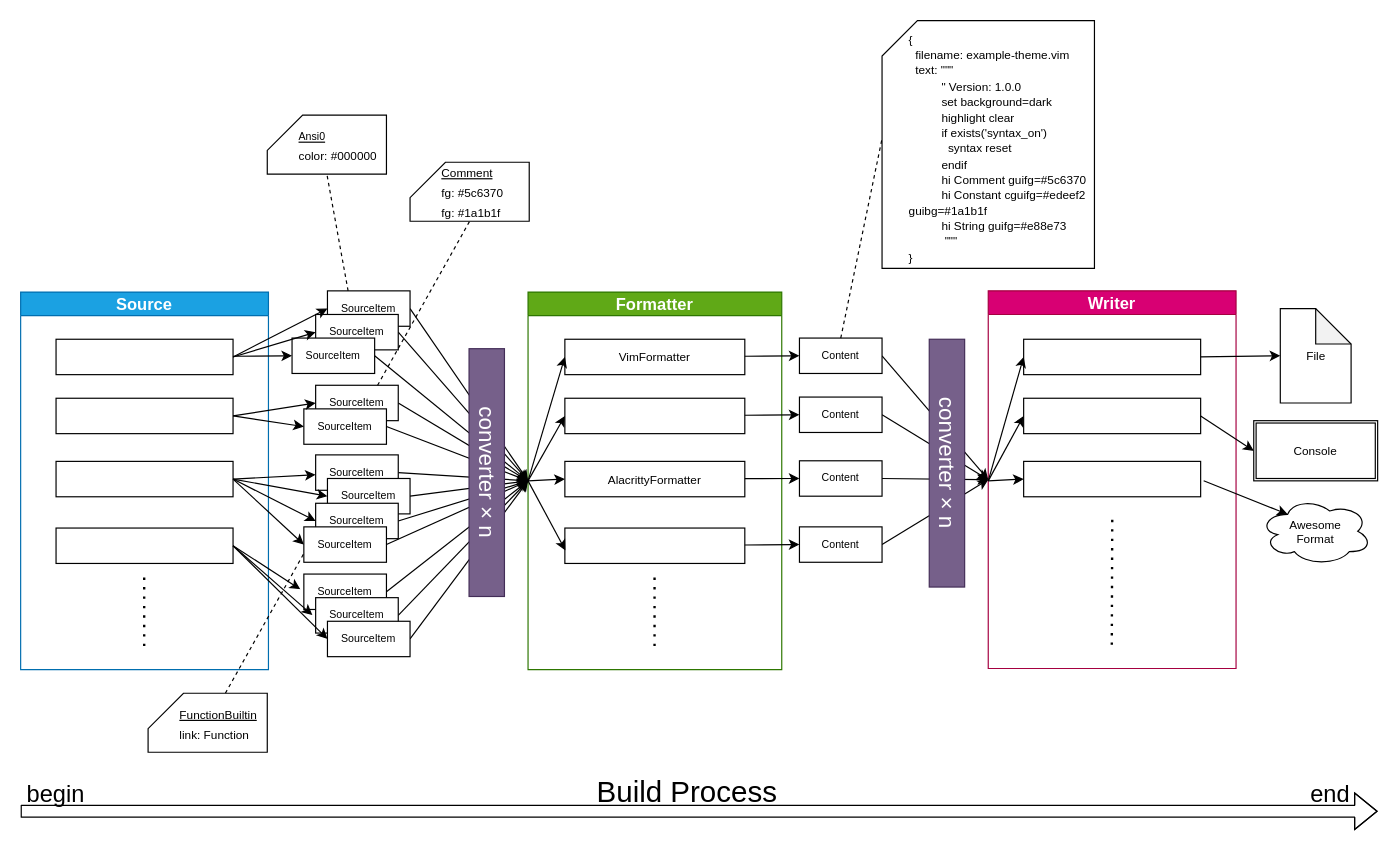
This 1398x851 diagram has some shape labels left out. Here are the shapes that lost their labels. From the top down, the box of each, then its label:
(55, 338, 233, 375): Ansi16ColorSource
(1022, 338, 1201, 375): TextFileWriter
(55, 397, 233, 434): VimSyntaxGroupSource
(564, 397, 745, 434): NeovimFormatter
(1022, 397, 1201, 434): ConsoleWriter
(55, 460, 233, 497): NeovimTreesitterHighlightSource
(1022, 460, 1201, 497): YourCustomAwesomeWriter
(55, 527, 233, 563): YourCustomAwesomeSource
(564, 527, 745, 563): VSCodeFormatter
